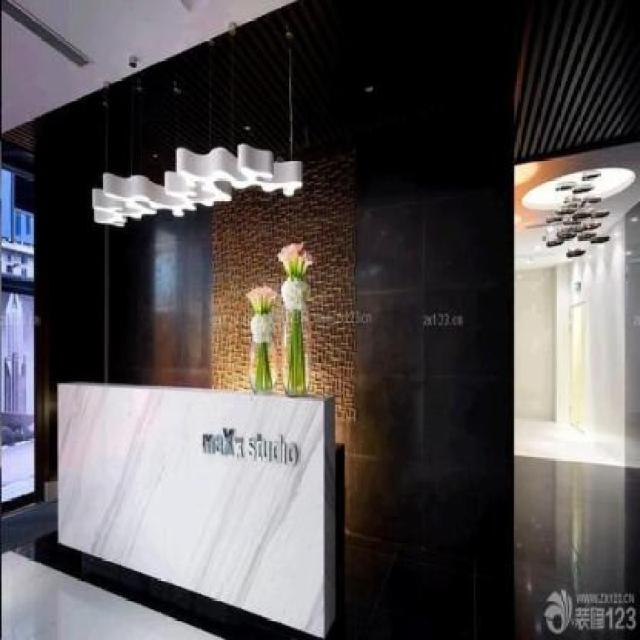frontdesk: (41, 360, 362, 635)
